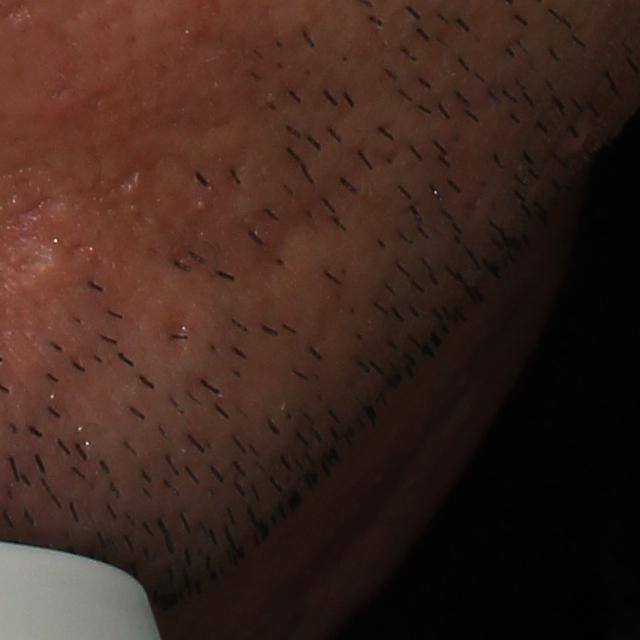atrophic_scar: (256, 203, 328, 285), (72, 168, 143, 221)
hypertrophic_scar: (16, 246, 84, 297)
